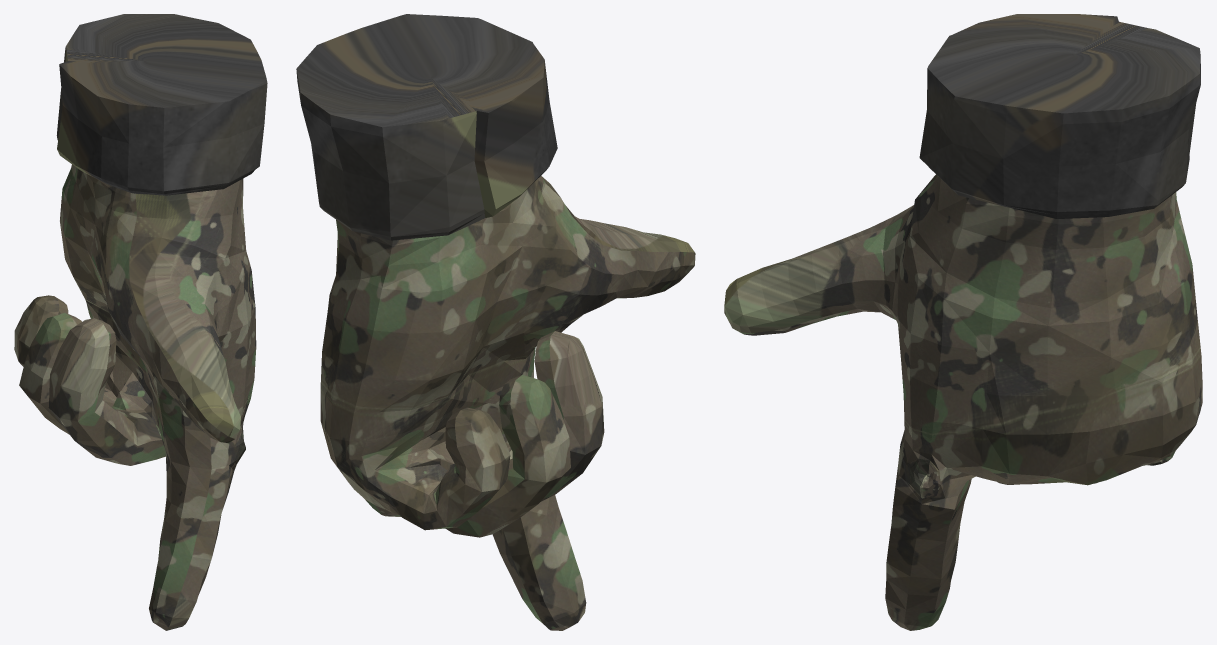
The model's file is glove_left_point.obj.
3 views of the same model, side by side, from view 1: azimuth 30°, elevation 25°; view 2: azimuth 150°, elevation 25°; view 3: azimuth 270°, elevation 25° (orthographic). The views are drawn at different scales.
Bounding box in the file's own units: 0.1027 × 0.2301 × 0.1667.
Materials: 1 (1 with a texture image).
